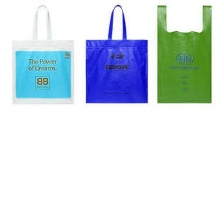plastic_bag: (8, 2, 79, 109), (82, 3, 150, 104), (153, 2, 216, 106)
